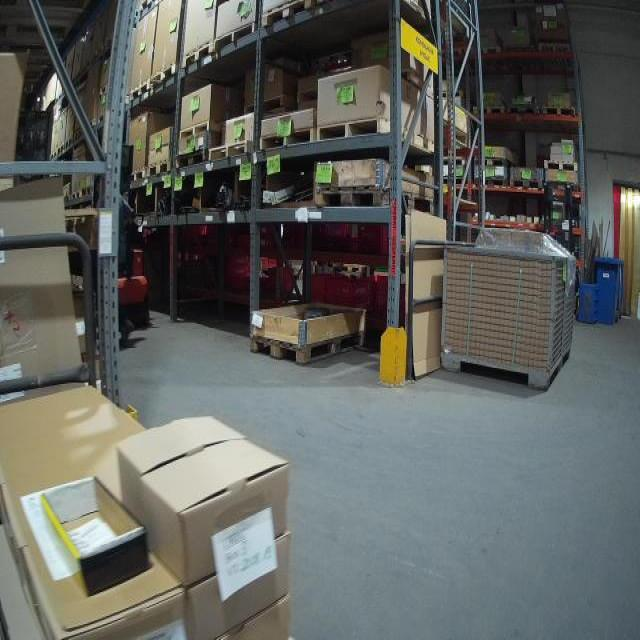pallet: (310, 180, 439, 219), (316, 117, 436, 151), (251, 329, 366, 364), (260, 122, 316, 158), (210, 18, 258, 56), (258, 1, 325, 28), (206, 136, 256, 167), (178, 36, 217, 73), (238, 94, 292, 119), (178, 119, 229, 141), (174, 146, 208, 178), (150, 62, 178, 95), (544, 159, 584, 180), (506, 102, 541, 123), (472, 102, 507, 123), (125, 78, 150, 107), (544, 107, 578, 124), (147, 159, 171, 183), (476, 156, 518, 169), (474, 176, 508, 190), (434, 156, 468, 170), (508, 180, 544, 192), (128, 167, 149, 187), (444, 174, 476, 186), (83, 117, 94, 137), (62, 137, 76, 152), (68, 190, 82, 205), (96, 110, 108, 125), (82, 187, 92, 204), (47, 151, 55, 163), (56, 146, 63, 159)
pallet_truck: (103, 145, 150, 345), (540, 173, 580, 306)
stillage: (437, 234, 577, 394)
